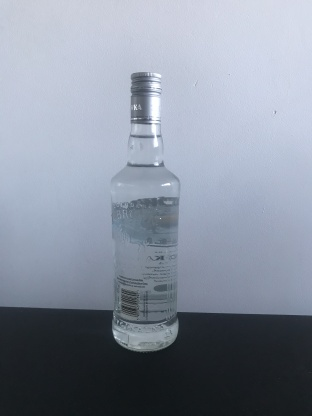nakretka: (129, 69, 163, 126)
